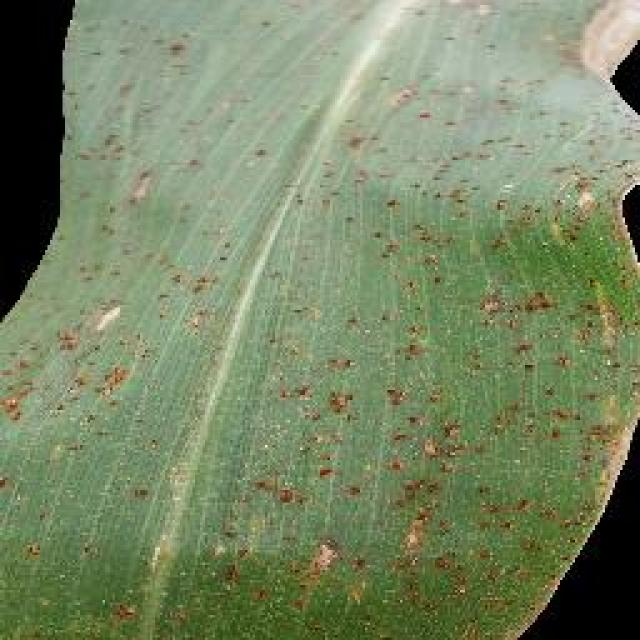Corn Common Rust: (164, 25, 568, 640)
